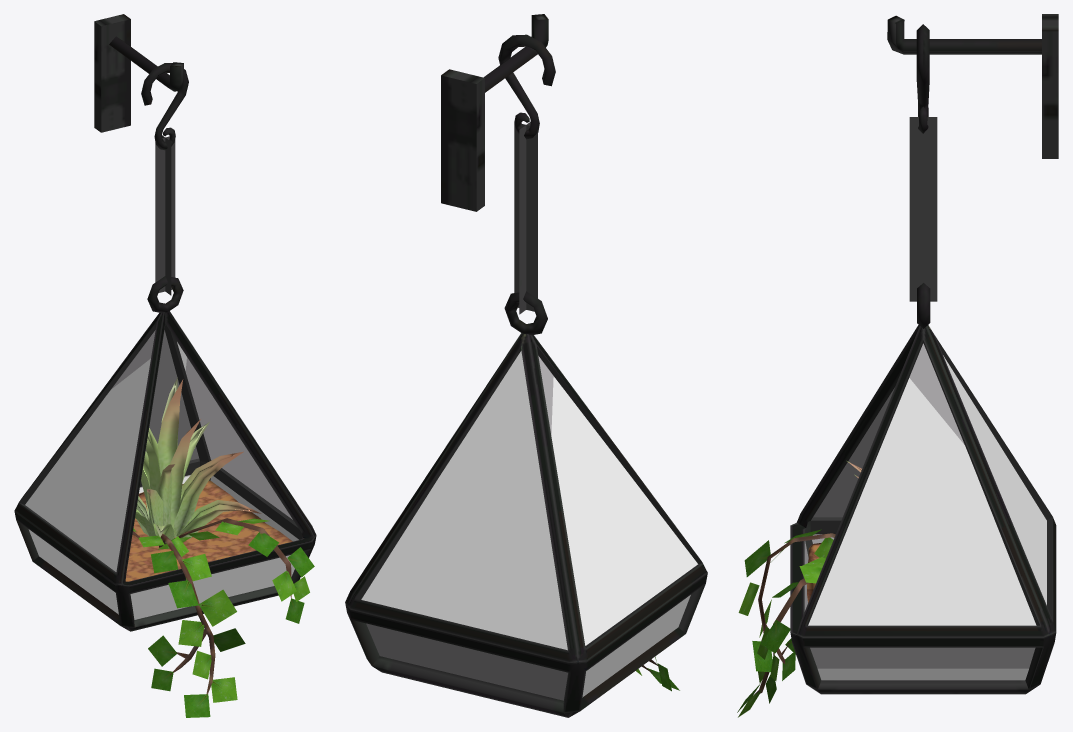
Rendered from terrariumwall.glb.
3 renders of one model, left to right at view 1: azimuth 30°, elevation 25°; view 2: azimuth 150°, elevation 25°; view 3: azimuth 270°, elevation 25°, orthographic. The views are drawn at different scales.
Parts seen in each view (by area): view 1: Flame_Body_low__mReBody, Squea_front__mGlass, Tuta1_low__mAlfa, Squea_back__mGlass_R; view 2: Squea_front__mGlass, Flame_Body_low__mReBody, Squea_back__mGlass_R; view 3: Squea_front__mGlass, Flame_Body_low__mReBody, Squea_back__mGlass_R, Tuta1_low__mAlfa.
Part boxes in pixels (<box>): Flame_Body_low__mReBody: <box>14,14,316,631</box>; Squea_front__mGlass: <box>25,342,298,619</box>; Tuta1_low__mAlfa: <box>132,518,314,717</box>; Squea_back__mGlass_R: <box>111,330,292,519</box>; Squea_front__mGlass: <box>361,351,697,697</box>; Flame_Body_low__mReBody: <box>345,14,707,717</box>; Squea_back__mGlass_R: <box>366,356,567,700</box>; Squea_front__mGlass: <box>808,355,1046,680</box>; Flame_Body_low__mReBody: <box>790,14,1058,694</box>; Squea_back__mGlass_R: <box>804,343,1035,668</box>; Tuta1_low__mAlfa: <box>737,529,835,717</box>.
Bounding box in the file's own units: 4.39 × 12.38 × 5.07.
4 materials, 3 textured.
